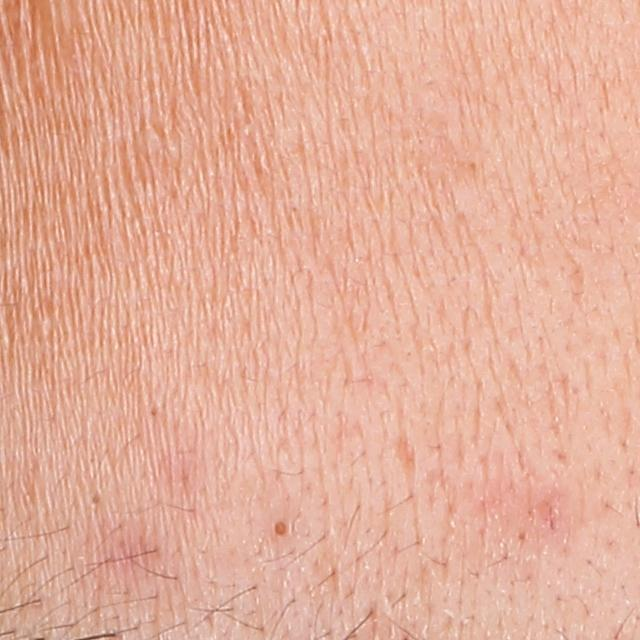comedo: (266, 514, 291, 540)
